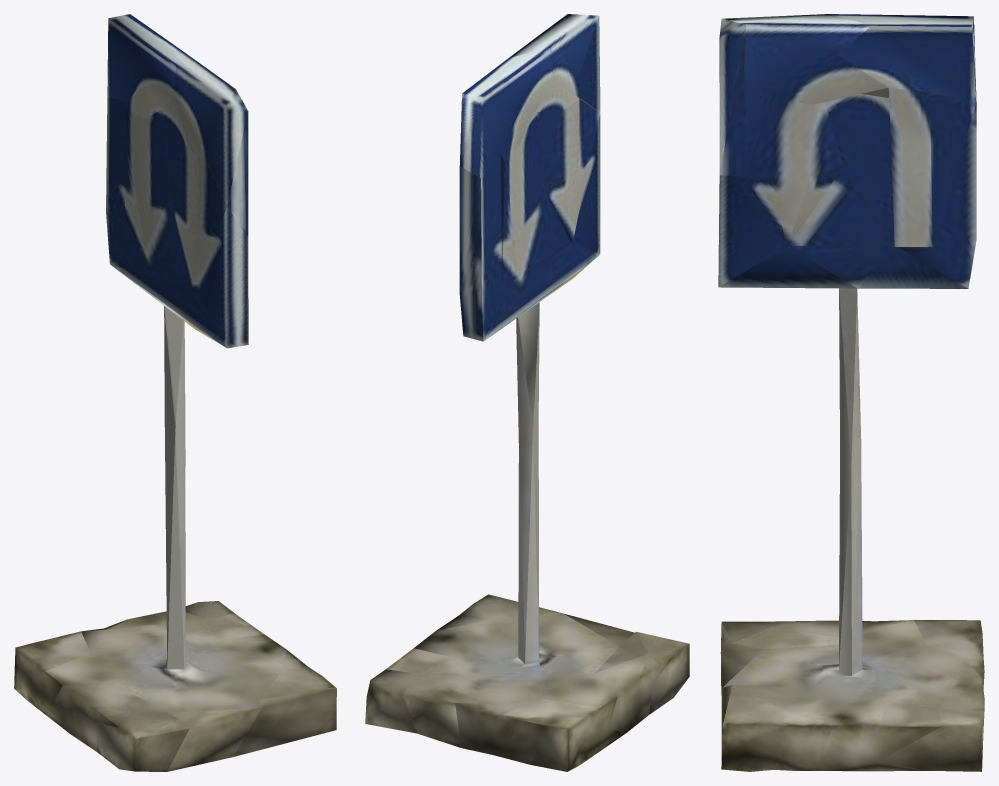
Rendered from putar_kiri_lod2.glb.
3 renders of one model, left to right at view 1: azimuth 30°, elevation 25°; view 2: azimuth 150°, elevation 25°; view 3: azimuth 270°, elevation 25°, orthographic. The views are drawn at different scales.
Parts seen in each view (by area): view 1: tripo_node_9945ce5c; view 2: tripo_node_9945ce5c; view 3: tripo_node_9945ce5c.
Boxes of the visible parts, x1,y1,x2,y2 form: tripo_node_9945ce5c: (14,14,336,771); tripo_node_9945ce5c: (365,14,689,771); tripo_node_9945ce5c: (718,14,984,771).
Size of the model in its own units: 32.63 by 99.82 by 34.33.
1 material, 1 textured.
